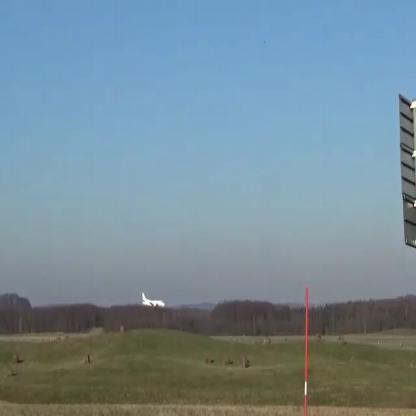aircraft: (141, 292, 166, 308)
